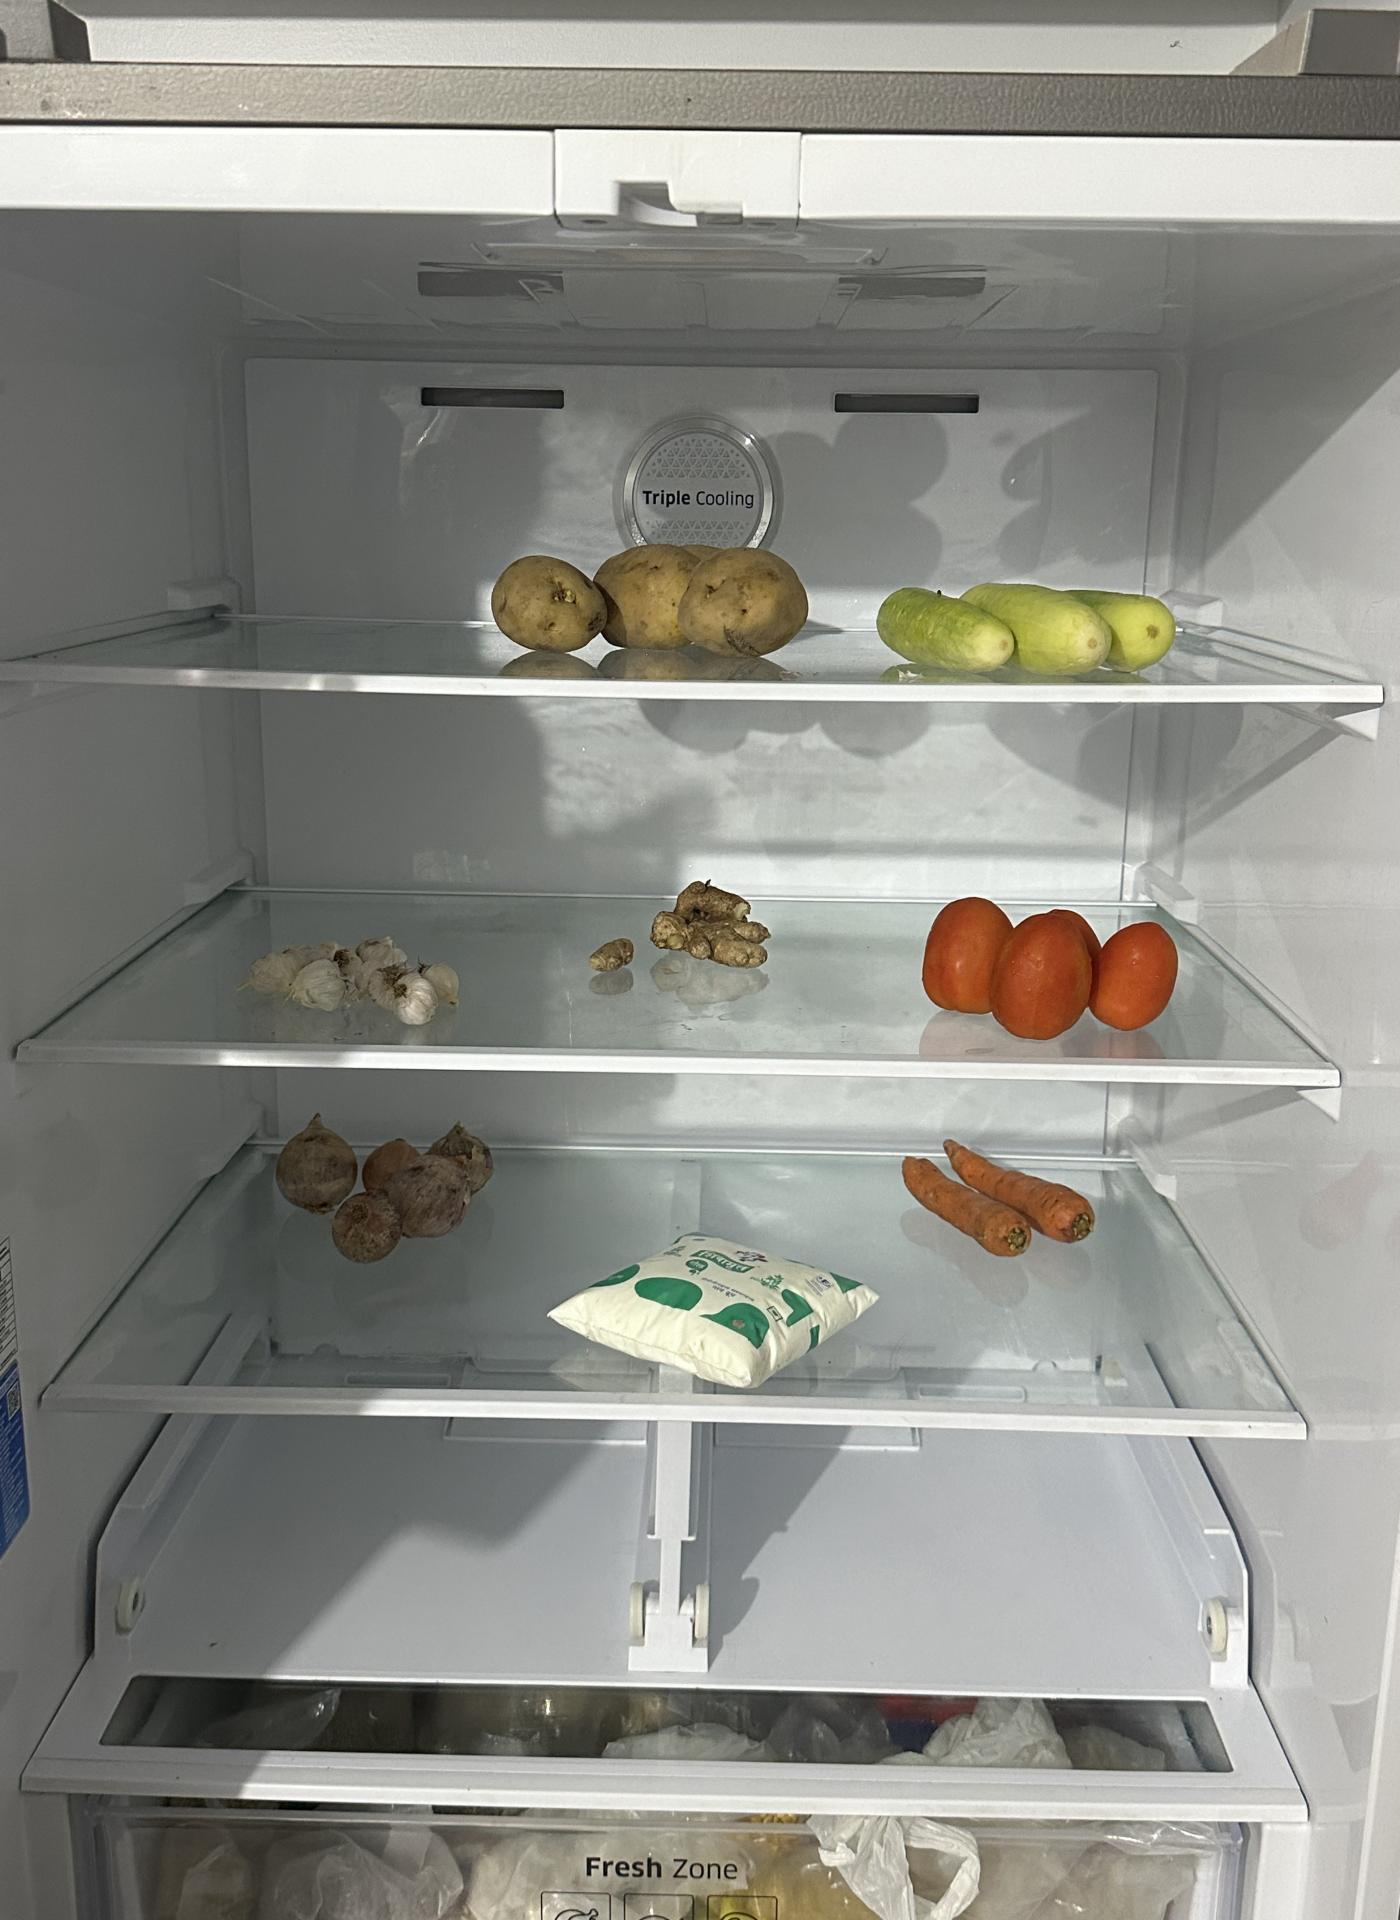carrots: (899, 1127, 1096, 1251)
cucumber: (872, 580, 1181, 677)
garlic: (247, 930, 465, 1021)
ginger: (276, 1120, 501, 1261), (652, 877, 774, 972)
milk: (555, 1228, 887, 1383)
potato: (492, 546, 823, 662)
tomato: (923, 903, 1185, 1046)
